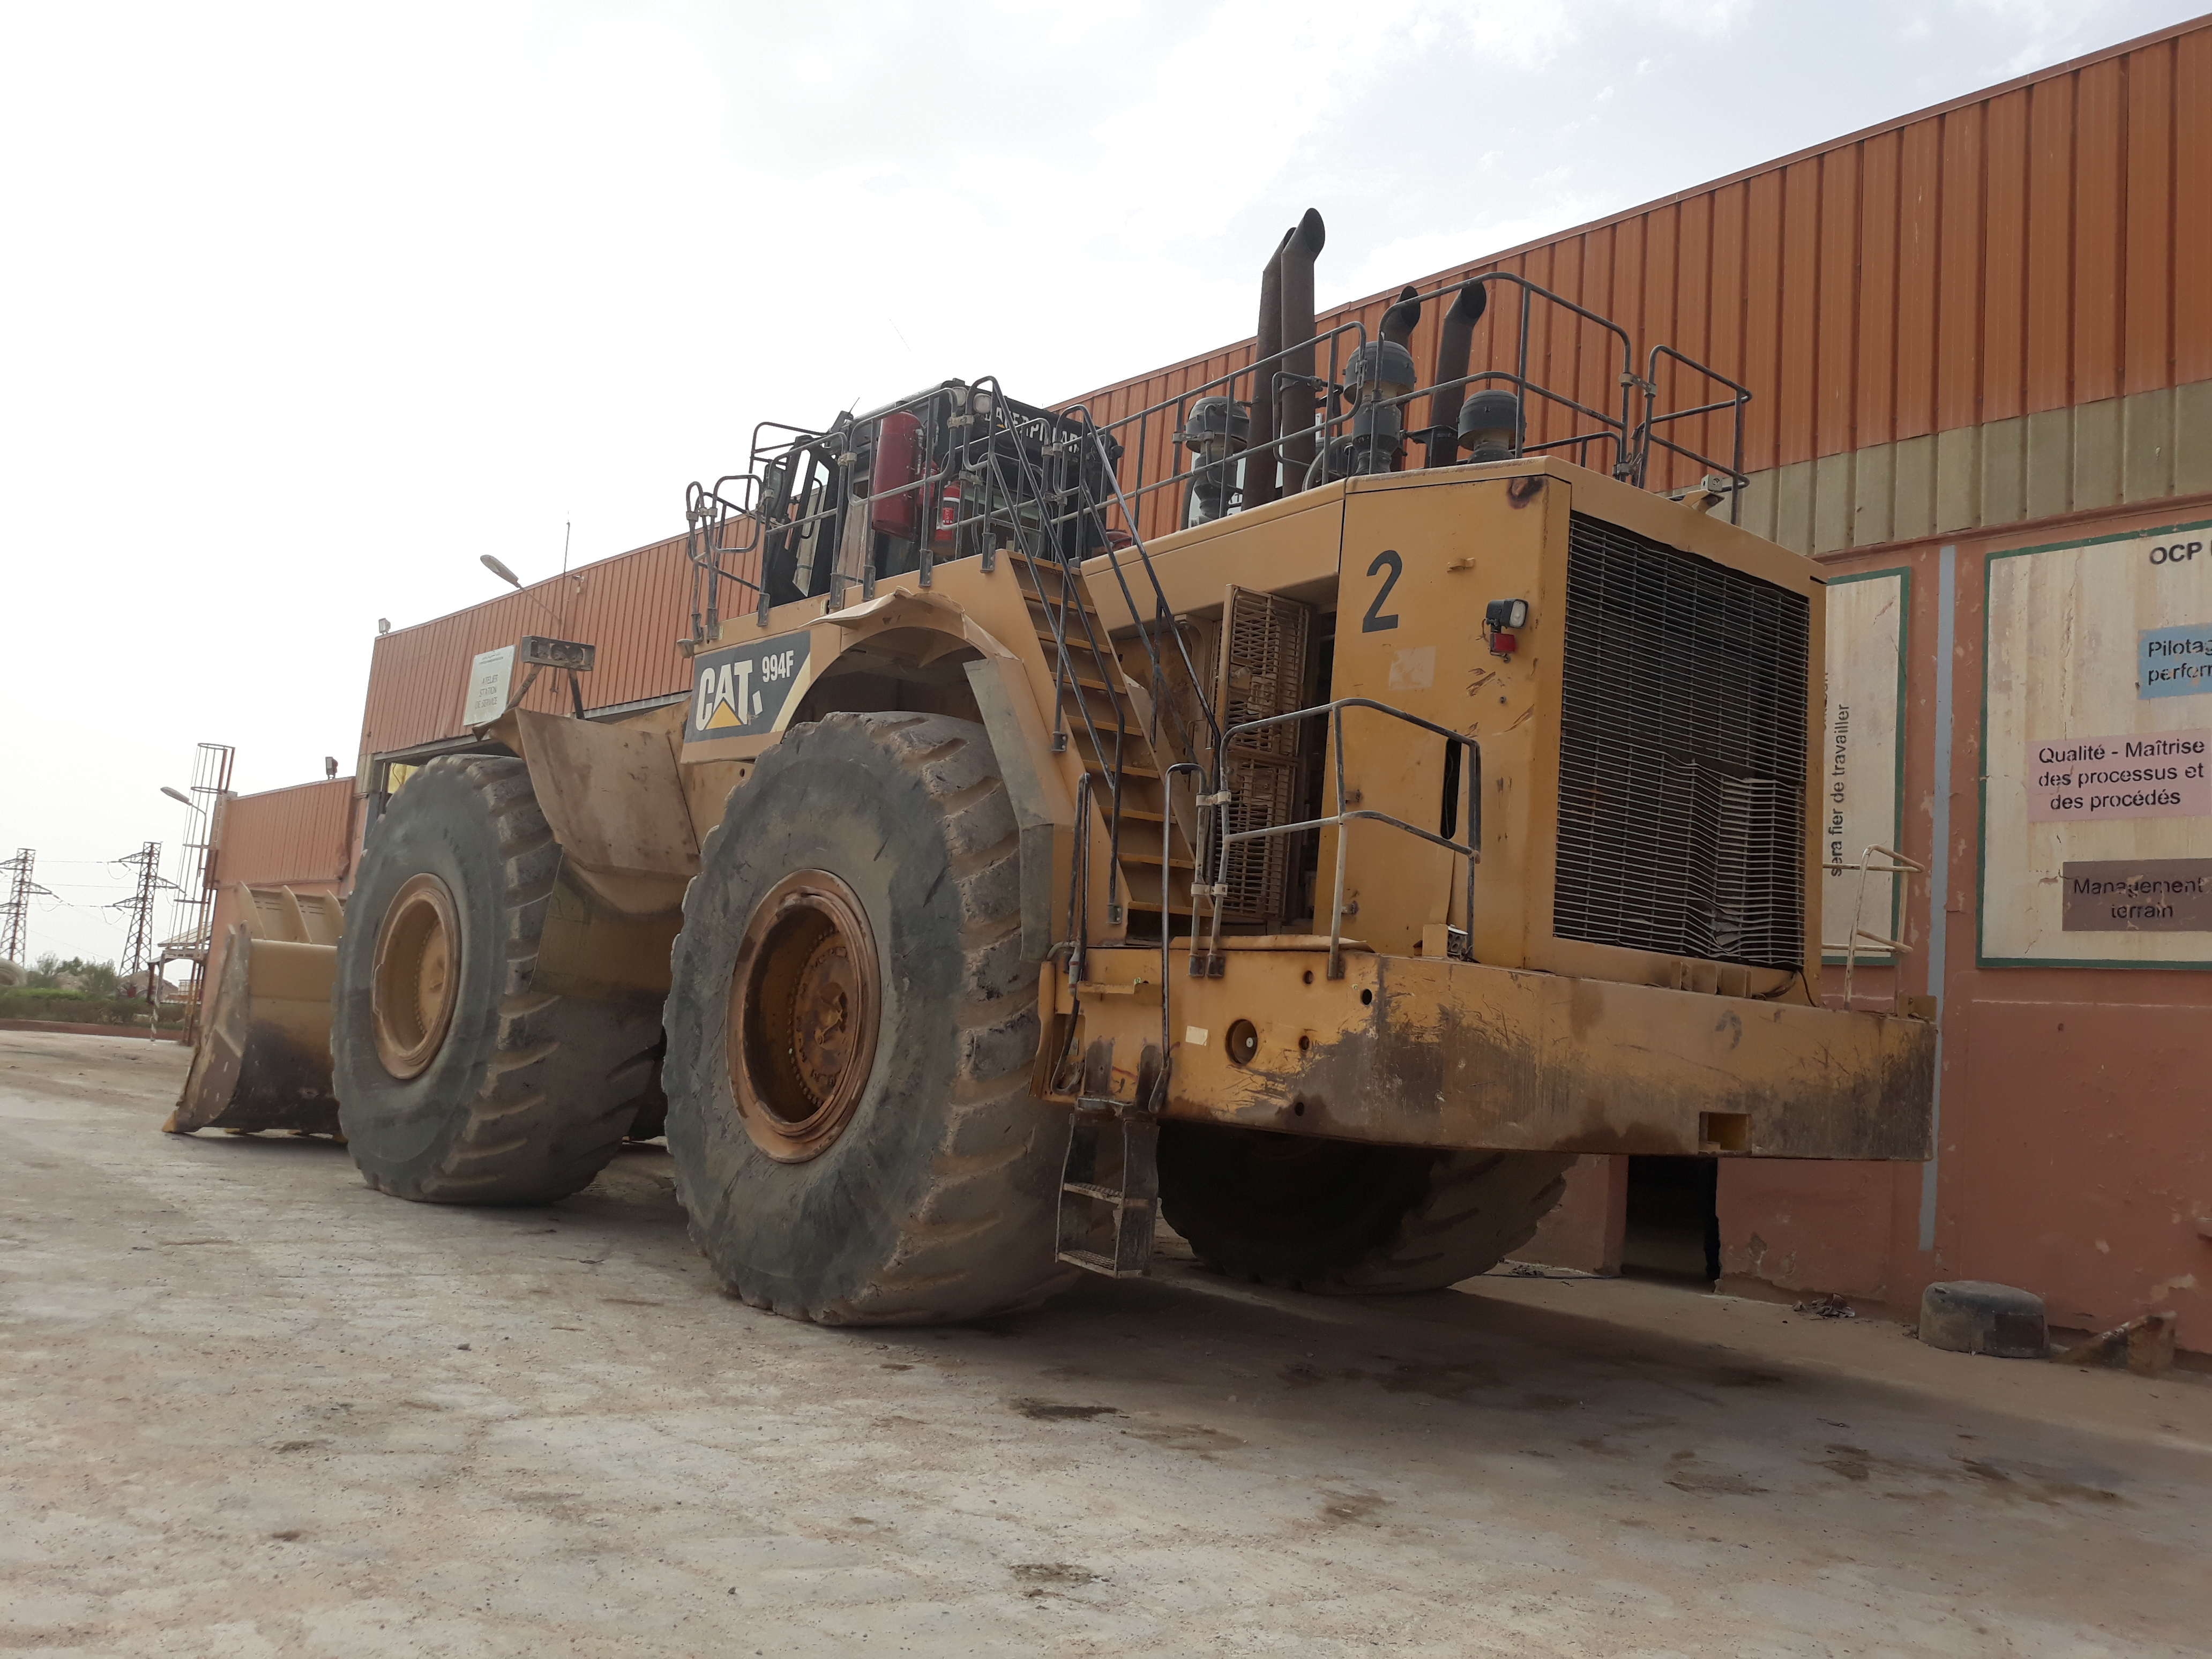chargeuse: (106, 235, 1890, 1420)
